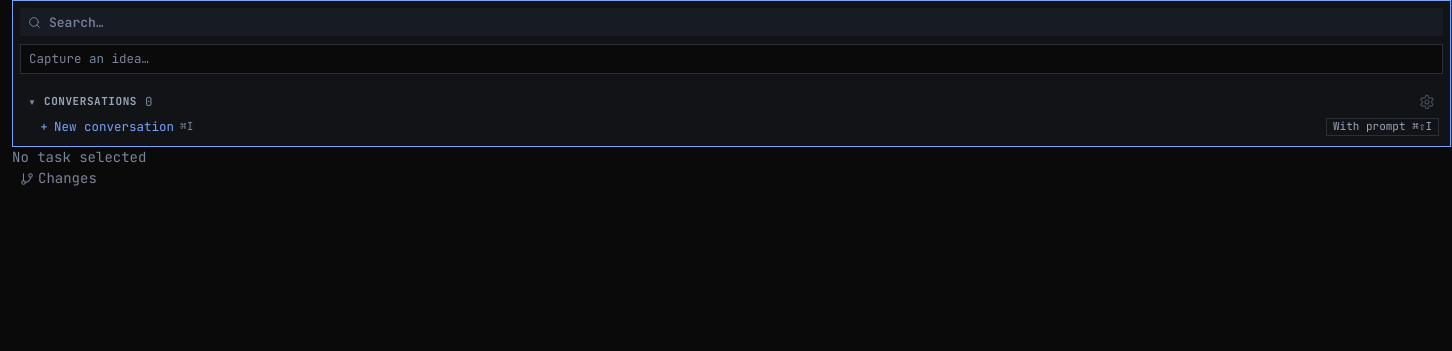
Scenario: overhaul acceptance, Changes workspace recovery › [overhaul-334] keeps Back usable while Changes is error
This screenshot has width=1452, height=351.
What coordinates should you click on to do the following:
click the button with aria-label "Open module Changes"
I would click on:
 (58, 179)
Its box is x1=12 y1=168 x2=105 y2=190.
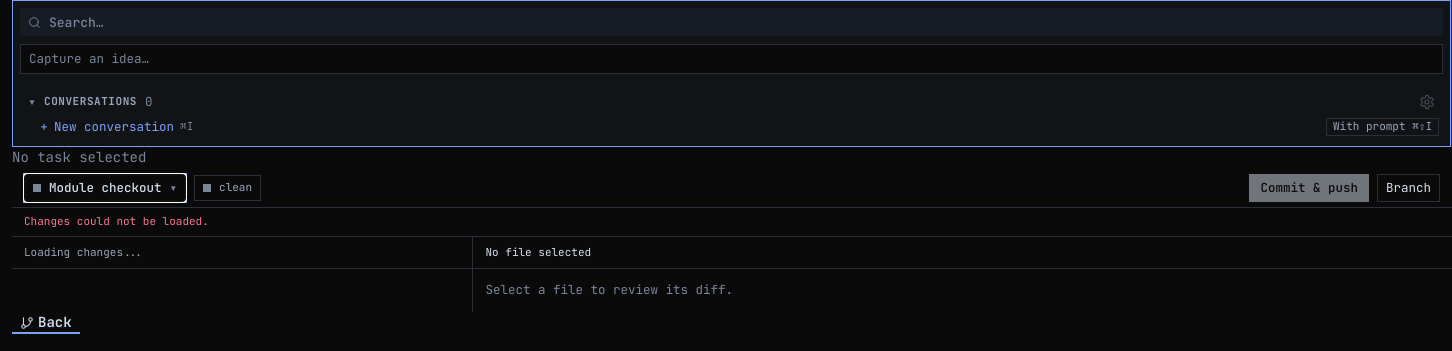
Expected: the message reads "Changes could not be loaded.", x1=24 y1=214 x2=209 y2=228
What coordinates should you click on to do the following:
click the button with aria-label "Back to planning workspace"
I would click on:
 (46, 323)
Its box is x1=12 y1=312 x2=80 y2=334.
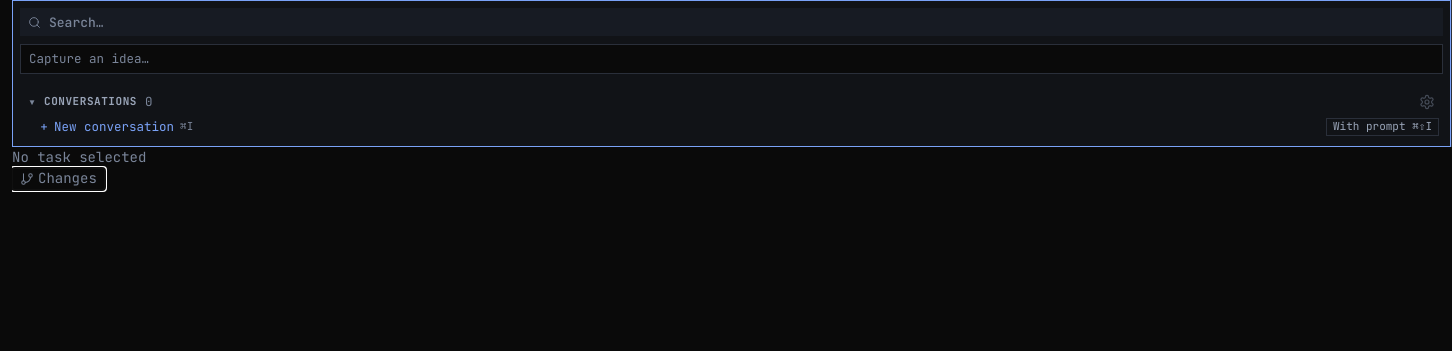
Expected: the button with aria-label "Open module Changes" is enabled, x1=12 y1=168 x2=105 y2=190
Expected: the element with test id "independent-changes-workspace" is gone
